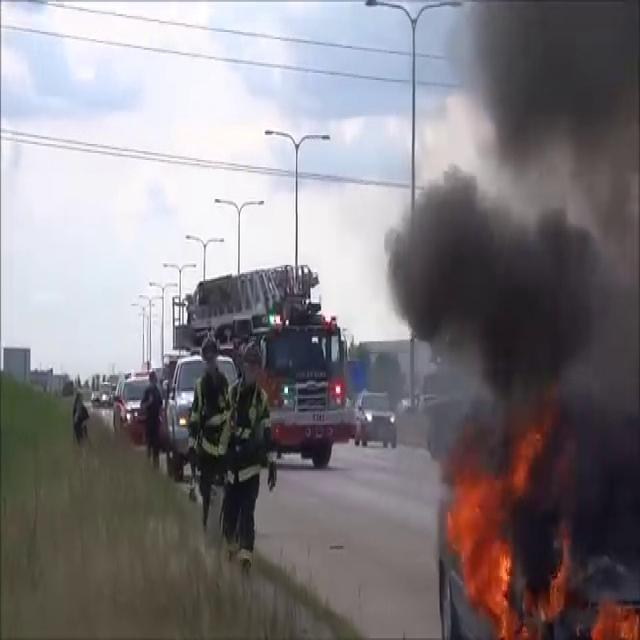Fire: (443, 464, 570, 636)
Smoke: (386, 0, 640, 564)
